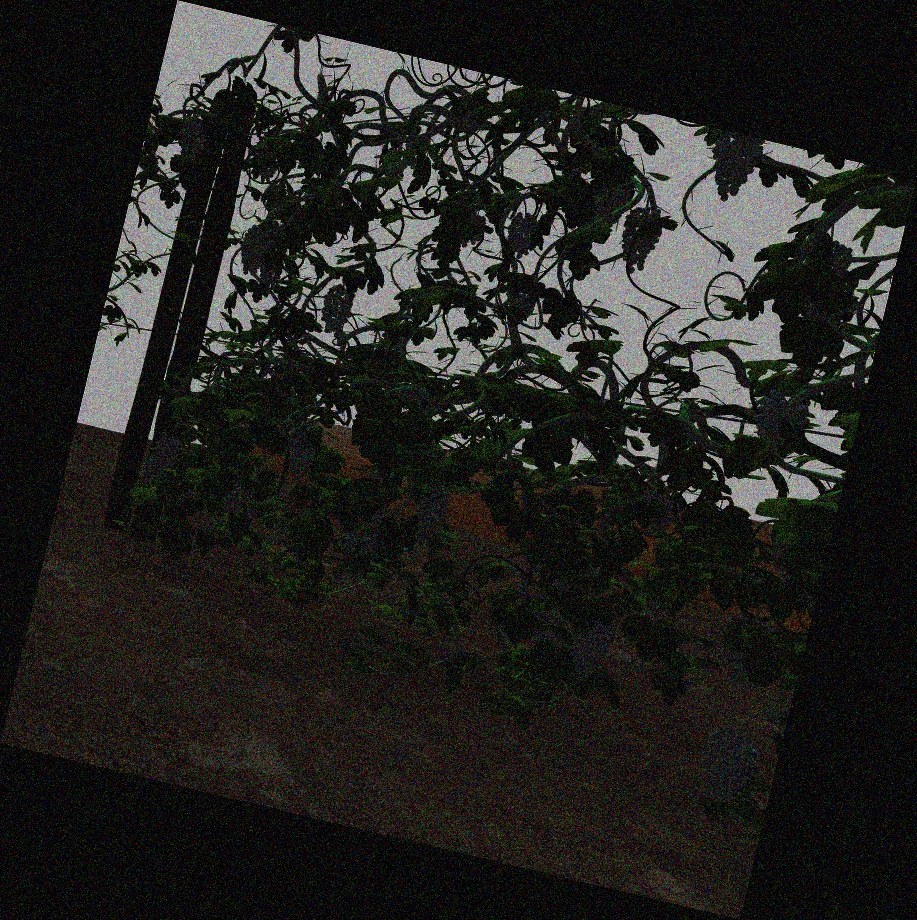grape: (700, 730, 760, 804), (753, 391, 807, 460), (710, 137, 757, 202), (568, 615, 612, 682), (620, 206, 659, 274), (415, 485, 448, 542), (321, 284, 353, 335), (592, 182, 627, 227), (506, 213, 538, 260), (239, 227, 269, 277), (285, 432, 316, 478), (179, 117, 207, 161), (344, 529, 379, 561), (154, 435, 180, 471), (141, 461, 165, 488), (222, 490, 248, 514)
